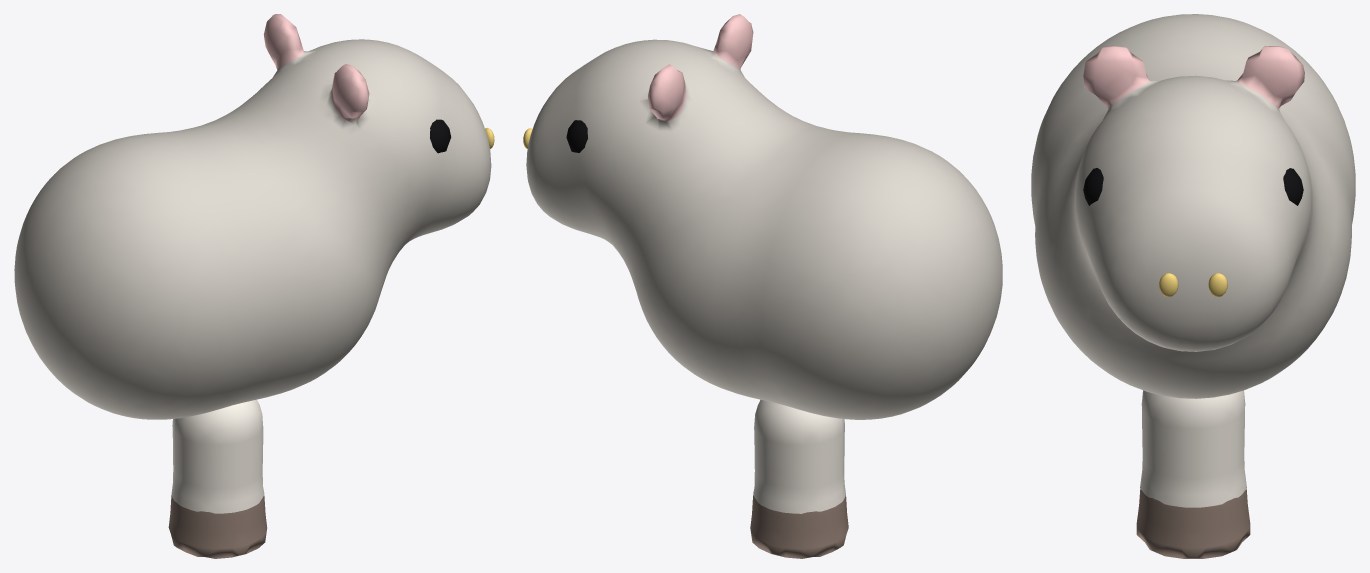
Rendered from capybara_baby.glb.
3 views of the same model, side by side, from view 1: azimuth 30°, elevation 25°; view 2: azimuth 150°, elevation 25°; view 3: azimuth 270°, elevation 25° (orthographic). The views are drawn at different scales.
Parts seen in each view (by area): view 1: body, leg; view 2: body, leg; view 3: body, leg, eye, beak.
Part boxes in pixels (bbox=[...]): body: bbox=[14, 14, 491, 419]; leg: bbox=[168, 399, 267, 558]; body: bbox=[526, 14, 1002, 419]; leg: bbox=[750, 399, 848, 558]; body: bbox=[1031, 14, 1355, 398]; leg: bbox=[1136, 390, 1250, 558]; eye: bbox=[1083, 168, 1303, 205]; beak: bbox=[1159, 273, 1227, 296].
Bounding box in the file's own units: 1.81 × 1.84 × 0.9871.
